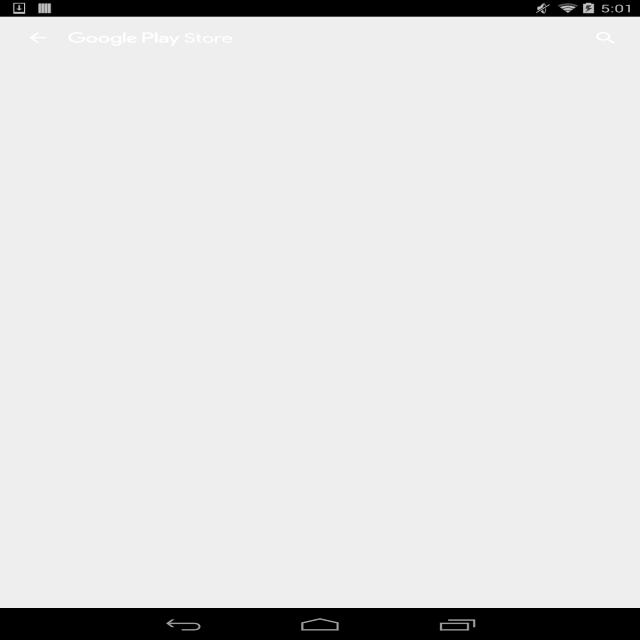Button: (324, 406, 418, 482), (222, 406, 316, 472), (426, 406, 520, 472), (454, 352, 614, 376)
ImageButton: (9, 17, 68, 59)
ImageView: (0, 59, 640, 254), (26, 270, 196, 377), (296, 579, 441, 640), (0, 579, 144, 640), (148, 579, 292, 640), (445, 579, 589, 640), (332, 406, 411, 455), (434, 406, 513, 455), (593, 579, 640, 640), (68, 30, 233, 46), (589, 270, 614, 286), (222, 312, 239, 323), (269, 464, 278, 469)
TextView: (0, 501, 640, 548), (0, 548, 640, 566), (222, 270, 589, 295), (324, 455, 418, 483), (222, 295, 357, 309), (25, 380, 166, 392), (580, 22, 632, 54), (426, 455, 520, 472), (120, 455, 213, 472), (526, 380, 614, 392), (245, 311, 316, 325), (250, 415, 288, 437), (133, 443, 200, 452), (159, 420, 173, 440), (259, 455, 266, 472)
